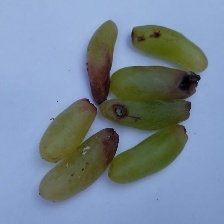grapes: (18, 31, 175, 224)
